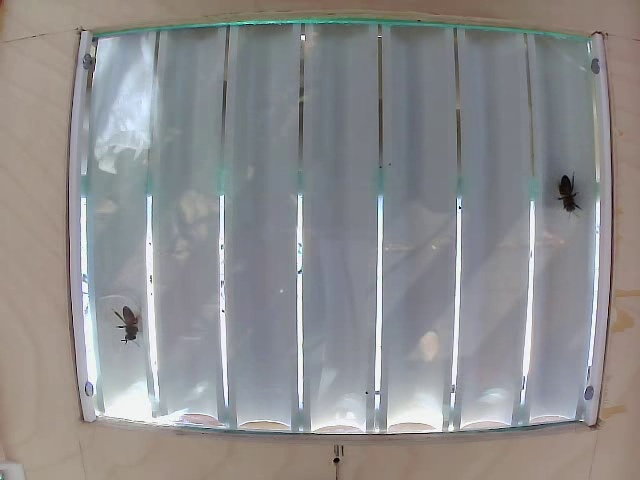bee: (548, 170, 582, 228), (115, 306, 150, 339)
